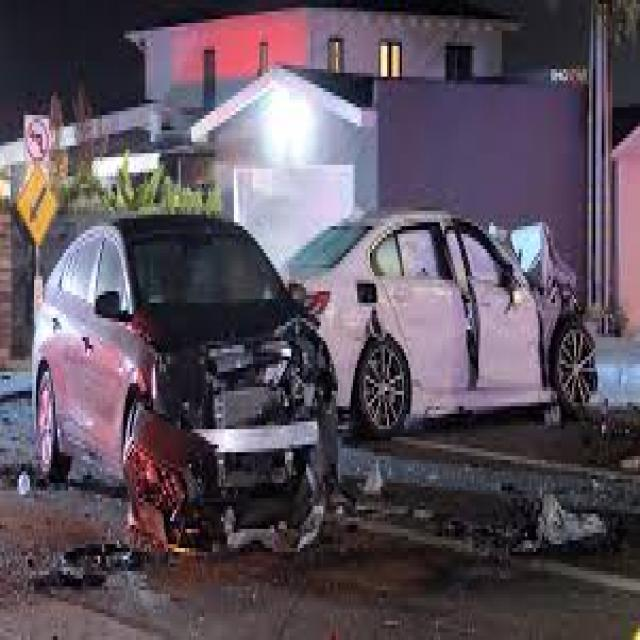accident: (23, 137, 612, 517), (30, 208, 355, 578), (299, 184, 613, 434)
